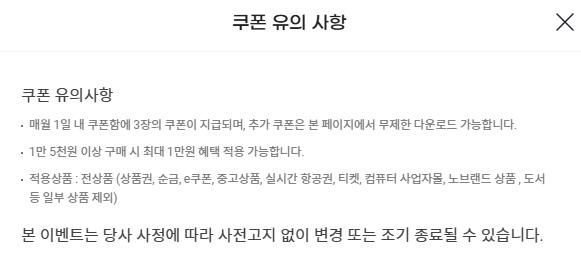button: (547, 10, 579, 36)
